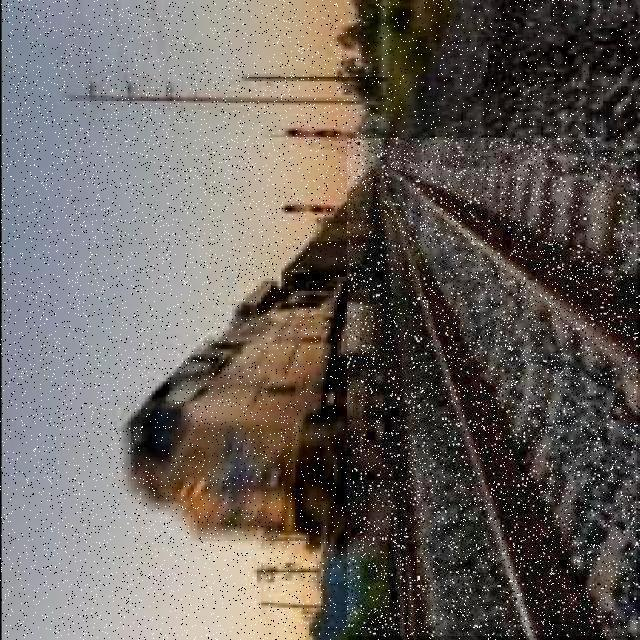rail: (349, 140, 638, 637)
